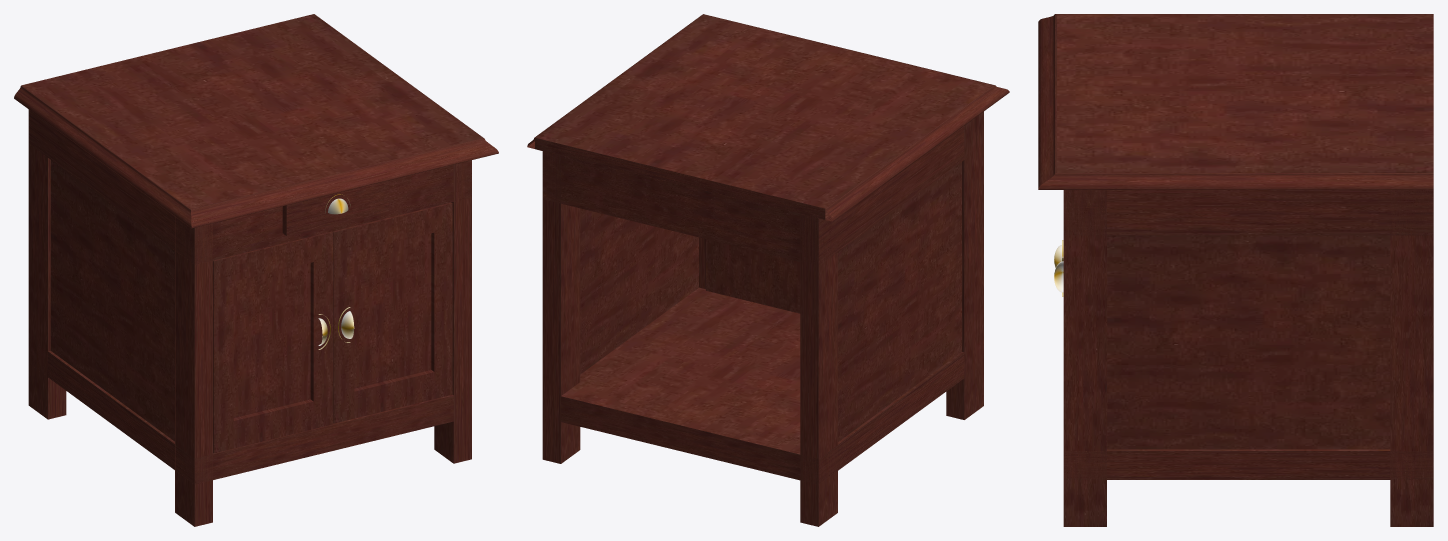
The model's file is sh-contrib-hall-table.glb.
3 renders of one model, left to right at view 1: azimuth 30°, elevation 25°; view 2: azimuth 150°, elevation 25°; view 3: azimuth 270°, elevation 25°, orthographic. The views are drawn at different scales.
Visible parts, largest first — view 1: HallTable_1, HallTable_2; view 2: HallTable_1; view 3: HallTable_1.
Part boxes in pixels (x1=…): HallTable_1: x1=14, y1=14, x2=498, y2=526; HallTable_2: x1=318, y1=194, x2=354, y2=349; HallTable_1: x1=527, y1=14, x2=1009, y2=526; HallTable_1: x1=1038, y1=14, x2=1433, y2=526.
Bounding box in the file's own units: 1 × 1 × 1.
2 materials, 2 textured.
